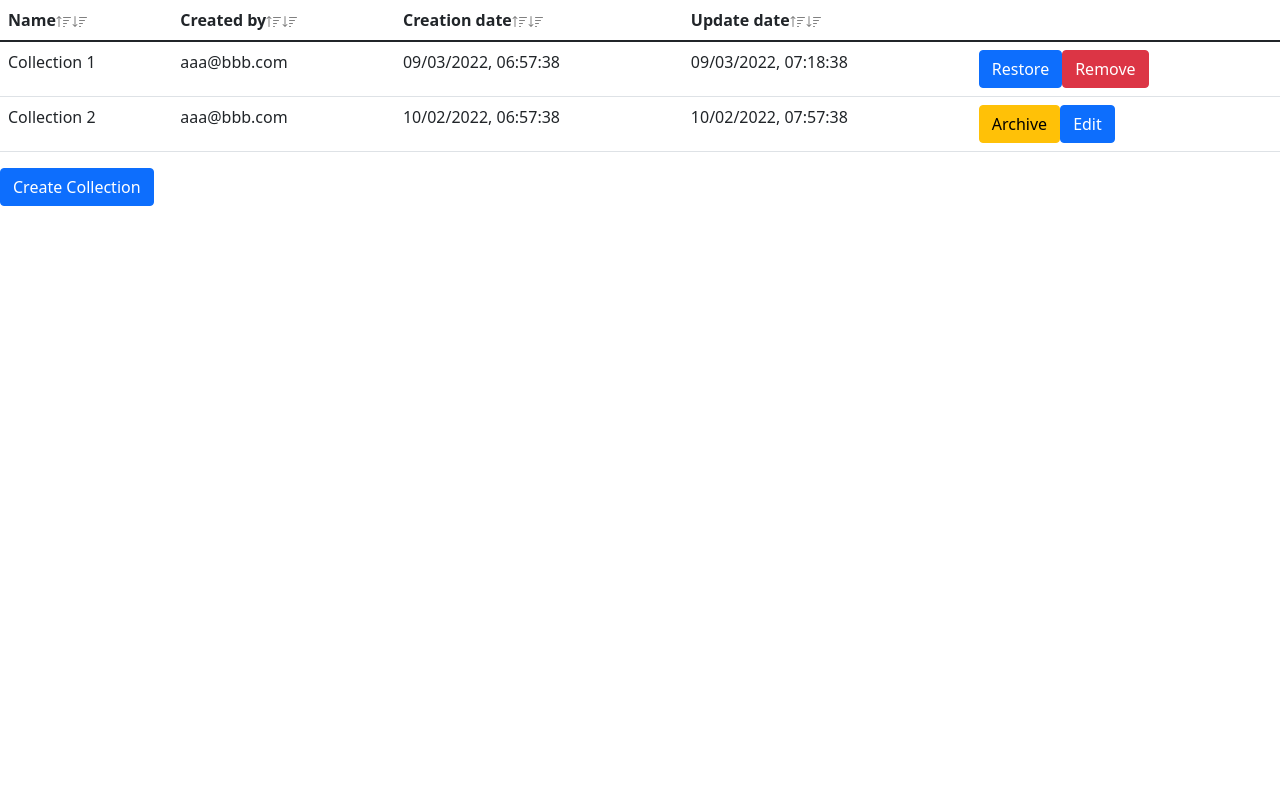
Interaction tests › "Create collection" clicked - collection dialog is shown
The image size is (1280, 800).
Click the button "Create Collection" at (77, 187), box [0, 168, 154, 206]
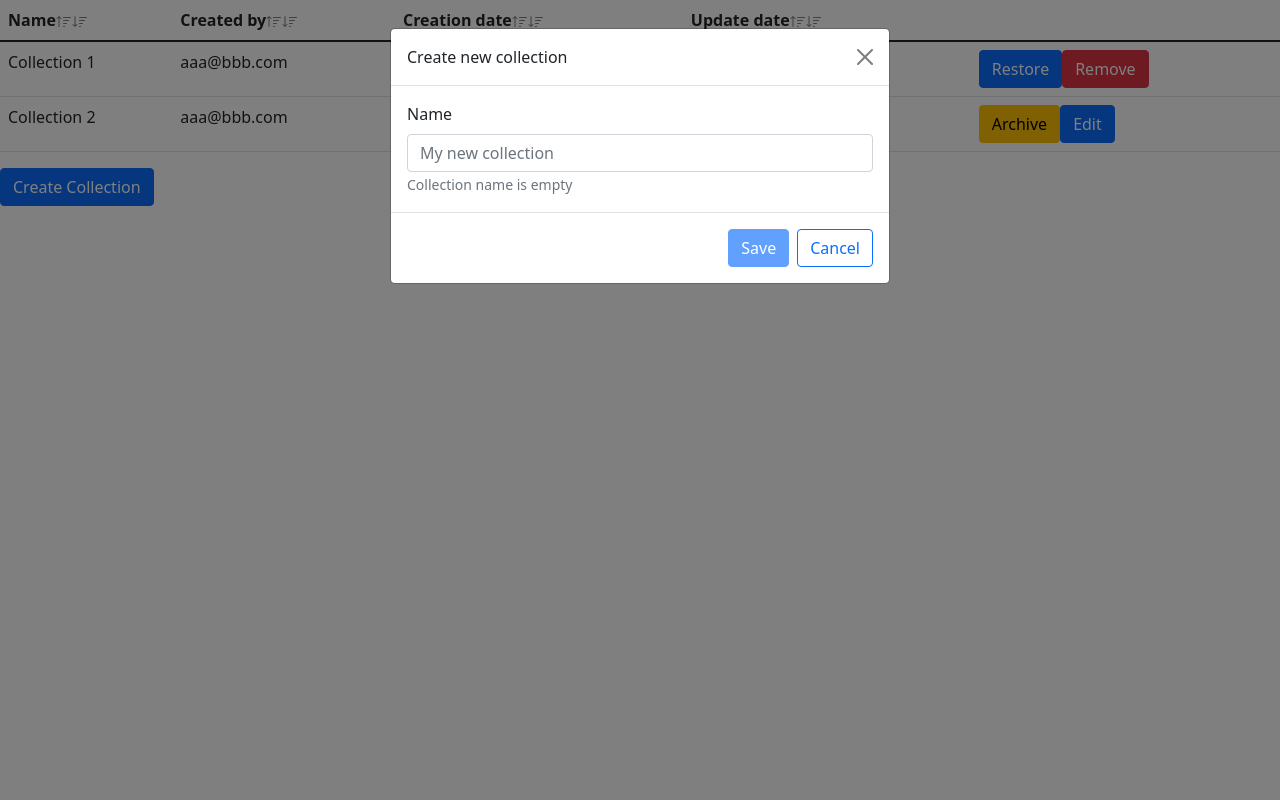
Expected: the button "Save" is shown, [728, 229, 789, 267]
